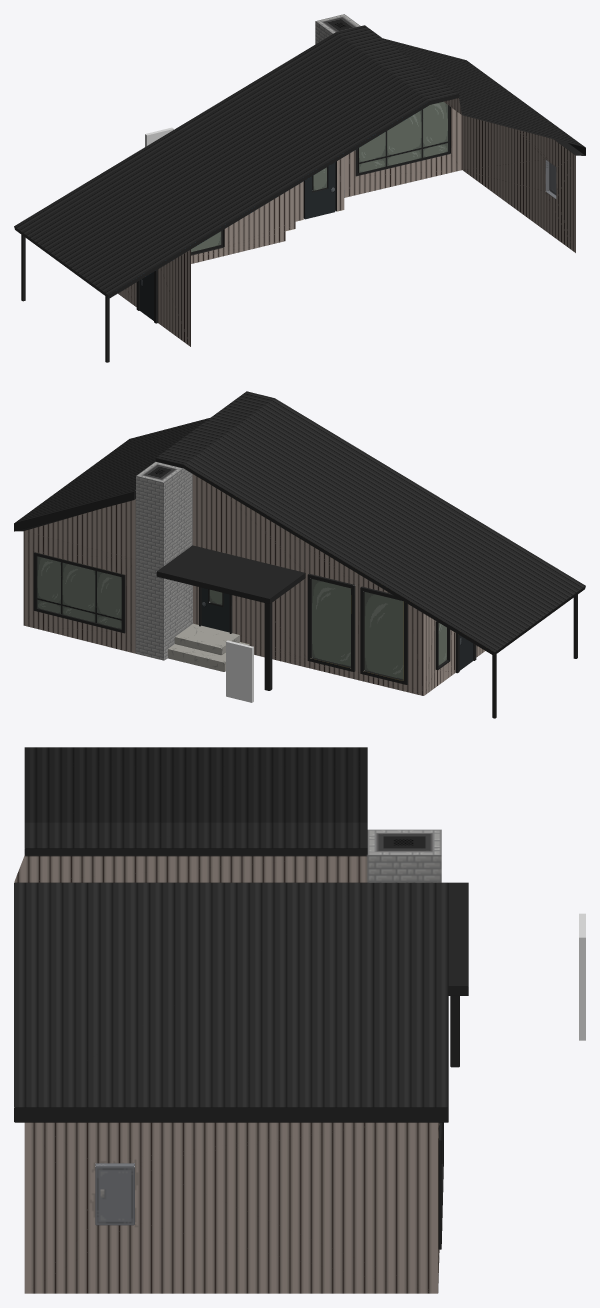
File: House_2.fbx
3 renders of one model, top to bottom at view 1: azimuth 30°, elevation 25°; view 2: azimuth 150°, elevation 25°; view 3: azimuth 270°, elevation 25°, orthographic. The views are drawn at different scales.
Visible parts, largest first — view 1: House; view 2: House, PersonRef; view 3: House, PersonRef.
Part boxes in pixels (bbox=[...]): House: bbox=[14, 14, 585, 362]; House: bbox=[14, 391, 585, 718]; PersonRef: bbox=[226, 640, 253, 702]; House: bbox=[14, 747, 468, 1293]; PersonRef: bbox=[579, 913, 585, 1040].
Bounding box in the file's own units: 1756 × 663 × 1006.
1 material, 1 textured.
